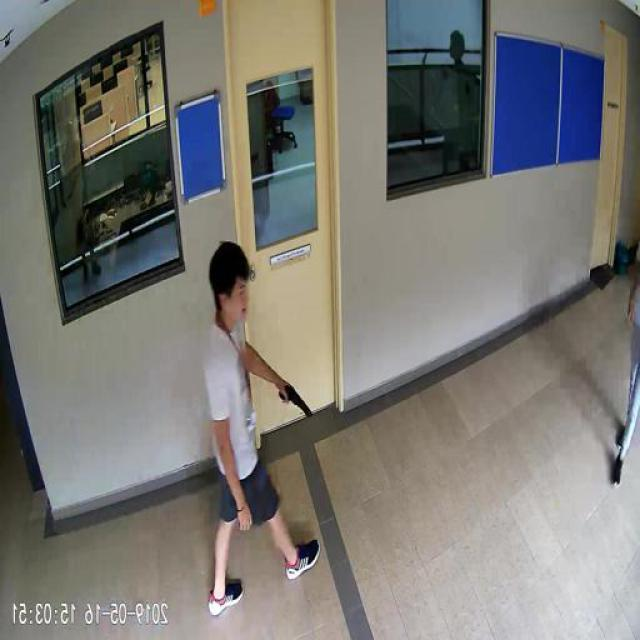Gun: (280, 376, 314, 415)
